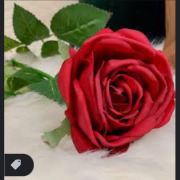RedRose: (56, 24, 175, 160)
